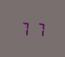seven: (19, 19, 31, 36), (32, 20, 44, 37)
